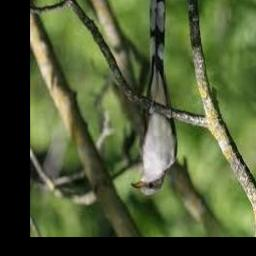Cuckoo: (131, 0, 177, 195)
